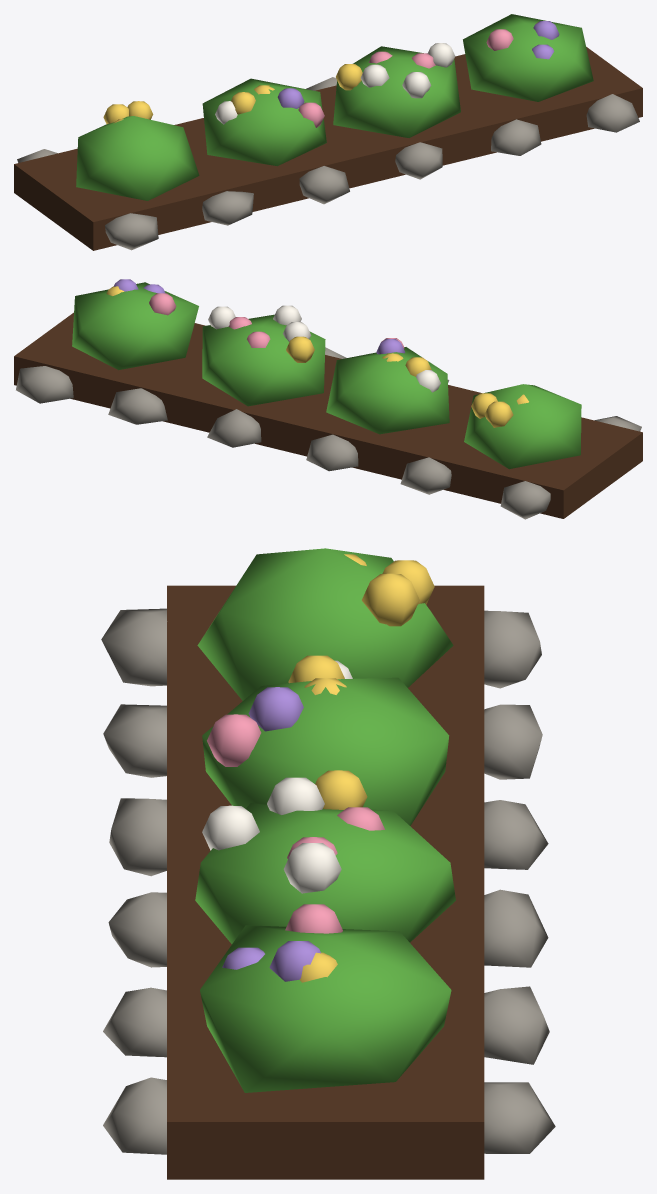
The model's file is prop_flower_bed.glb.
3 views of the same model, one above another, from view 1: azimuth 30°, elevation 25°; view 2: azimuth 150°, elevation 25°; view 3: azimuth 270°, elevation 25° (orthographic). The views are drawn at different scales.
Visible parts, largest first — view 1: Prop_Flower_Bed; view 2: Prop_Flower_Bed; view 3: Prop_Flower_Bed.
Part boxes in pixels (x1,y1,x2,y2): Prop_Flower_Bed: (14,14,642,250); Prop_Flower_Bed: (14,279,642,519); Prop_Flower_Bed: (101,548,555,1179).
Bounding box in the file's own units: 2.4 × 0.3902 × 0.8594.
